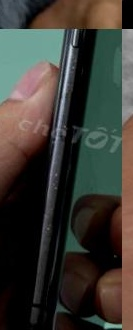scratch: (13, 49, 105, 245)
